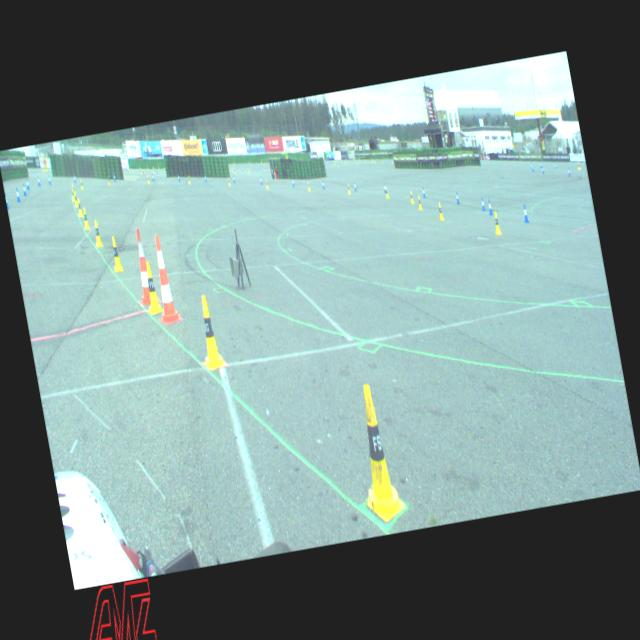blue_cone: (521, 204, 529, 222), (14, 186, 20, 202), (4, 192, 10, 208), (487, 199, 492, 215), (22, 183, 28, 196), (479, 197, 485, 210), (25, 177, 30, 189), (455, 192, 460, 204), (422, 186, 426, 198), (36, 176, 40, 187), (48, 174, 52, 185), (353, 181, 357, 192), (382, 182, 386, 193), (259, 175, 263, 185), (321, 180, 325, 190), (150, 172, 154, 182), (112, 172, 116, 182), (72, 174, 76, 182), (232, 175, 235, 184), (177, 174, 180, 182), (291, 178, 294, 186), (204, 174, 206, 182)
large_orange_cone: (146, 233, 182, 324), (128, 228, 154, 305)
yellow_cone: (346, 382, 406, 524), (192, 294, 226, 370), (140, 260, 163, 314), (108, 235, 124, 272), (92, 218, 104, 248), (491, 210, 501, 235), (81, 207, 90, 230), (76, 198, 84, 218), (436, 202, 444, 220), (72, 190, 78, 206), (417, 194, 422, 210), (408, 190, 414, 203), (70, 187, 74, 200), (79, 178, 83, 190), (346, 183, 350, 194), (385, 187, 389, 198), (264, 178, 268, 188), (106, 175, 110, 185), (306, 180, 310, 190), (146, 174, 150, 183), (227, 176, 230, 186), (187, 174, 190, 184)
